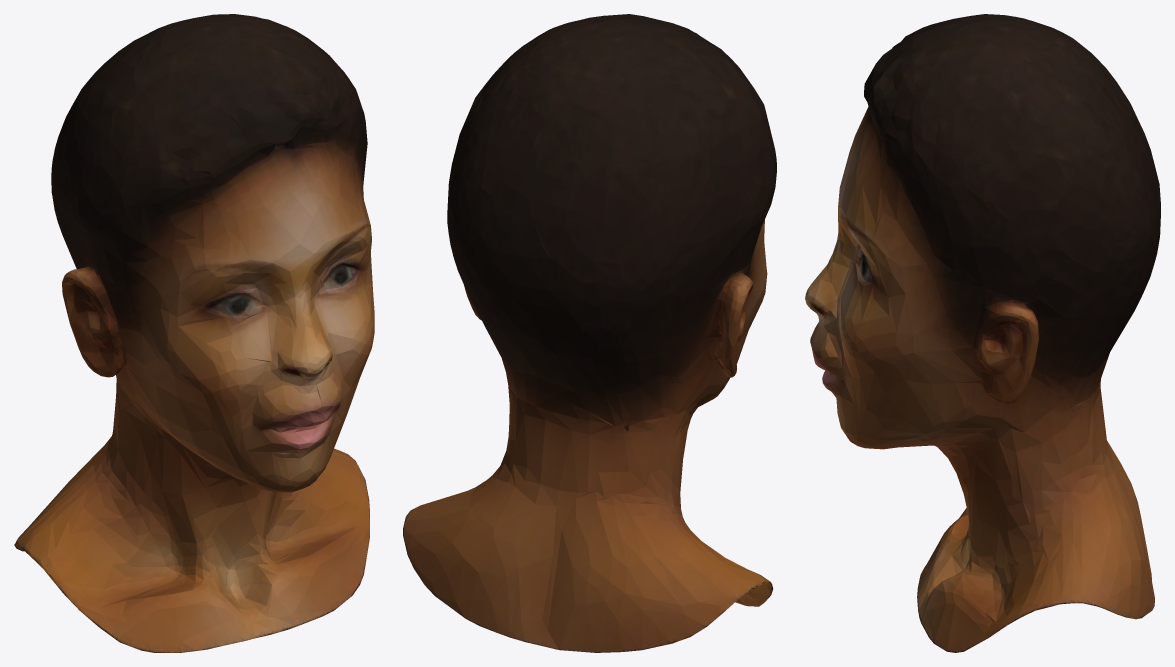
Rendered from head-curls.glb.
The picture shows the model from 3 angles, left to right: view 1: azimuth 30°, elevation 25°; view 2: azimuth 150°, elevation 25°; view 3: azimuth 270°, elevation 25°; orthographic projection.
Visible parts, largest first — view 1: geometry_0; view 2: geometry_0; view 3: geometry_0.
Part boxes in pixels (left/top/right/bottom): geometry_0: left=14, top=14, right=374, bottom=652; geometry_0: left=403, top=14, right=776, bottom=652; geometry_0: left=805, top=14, right=1160, bottom=652.
Bounding box in the file's own units: 0.6092 × 0.9997 × 0.5639.
Materials: 1 (1 with a texture image).
